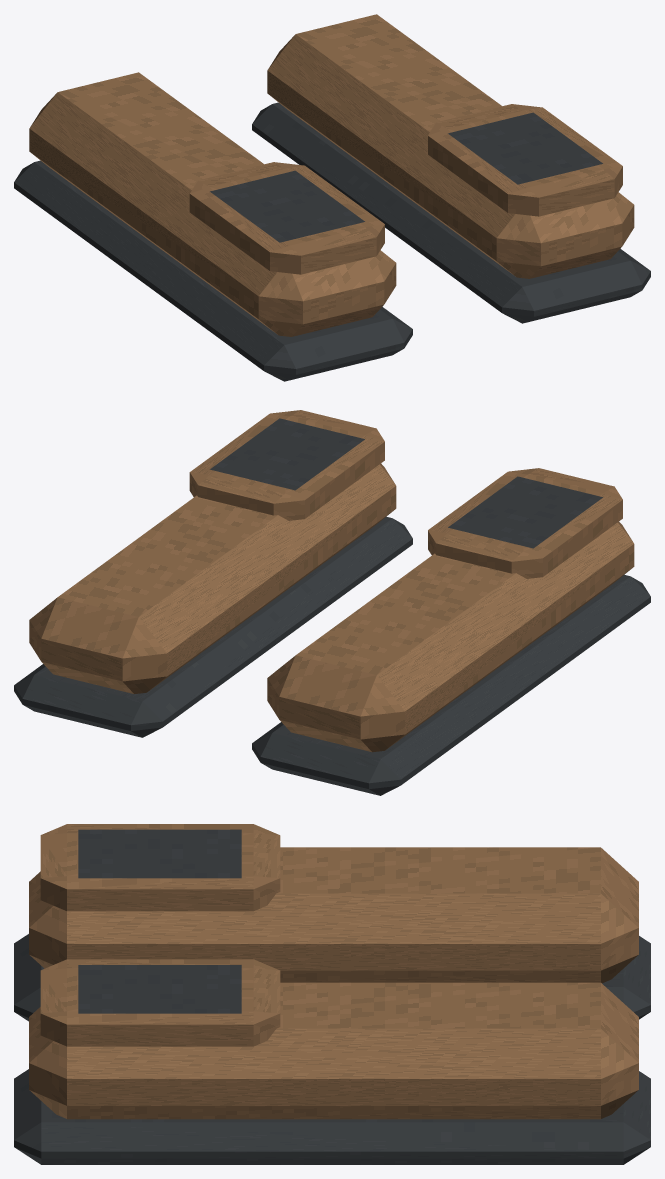
The model's file is mocassins.glb.
3 views of the same model, one above another, from view 1: azimuth 30°, elevation 25°; view 2: azimuth 150°, elevation 25°; view 3: azimuth 270°, elevation 25° (orthographic). The views are drawn at different scales.
Parts seen in each view (by area): view 1: block_stitched vamp (×2), block_shaped sole (×2), block_open ankle (×2), block_insole opening (×2); view 2: block_stitched vamp (×2), block_shaped sole (×2), block_open ankle (×2), block_insole opening (×2); view 3: block_stitched vamp (×2), block_shaped sole (×2), block_open ankle (×2), block_insole opening (×2).
Boxes of the visible parts, x1=… form: block_stitched vamp (×2): x1=29, y1=14, x2=634, y2=336; block_shaped sole (×2): x1=14, y1=102, x2=650, y2=381; block_open ankle (×2): x1=189, y1=104, x2=622, y2=274; block_insole opening (×2): x1=210, y1=112, x2=602, y2=242; block_stitched vamp (×2): x1=29, y1=463, x2=634, y2=752; block_shaped sole (×2): x1=14, y1=516, x2=650, y2=795; block_open ankle (×2): x1=189, y1=410, x2=622, y2=578; block_insole opening (×2): x1=210, y1=418, x2=602, y2=548; block_stitched vamp (×2): x1=29, y1=847, x2=638, y2=1119; block_shaped sole (×2): x1=14, y1=934, x2=650, y2=1164; block_open ankle (×2): x1=40, y1=824, x2=280, y2=1046; block_insole opening (×2): x1=78, y1=829, x2=241, y2=1013.
Size of the model in its own units: 0.188 by 0.0578 by 0.2302.
Materials: 1 (1 with a texture image).
